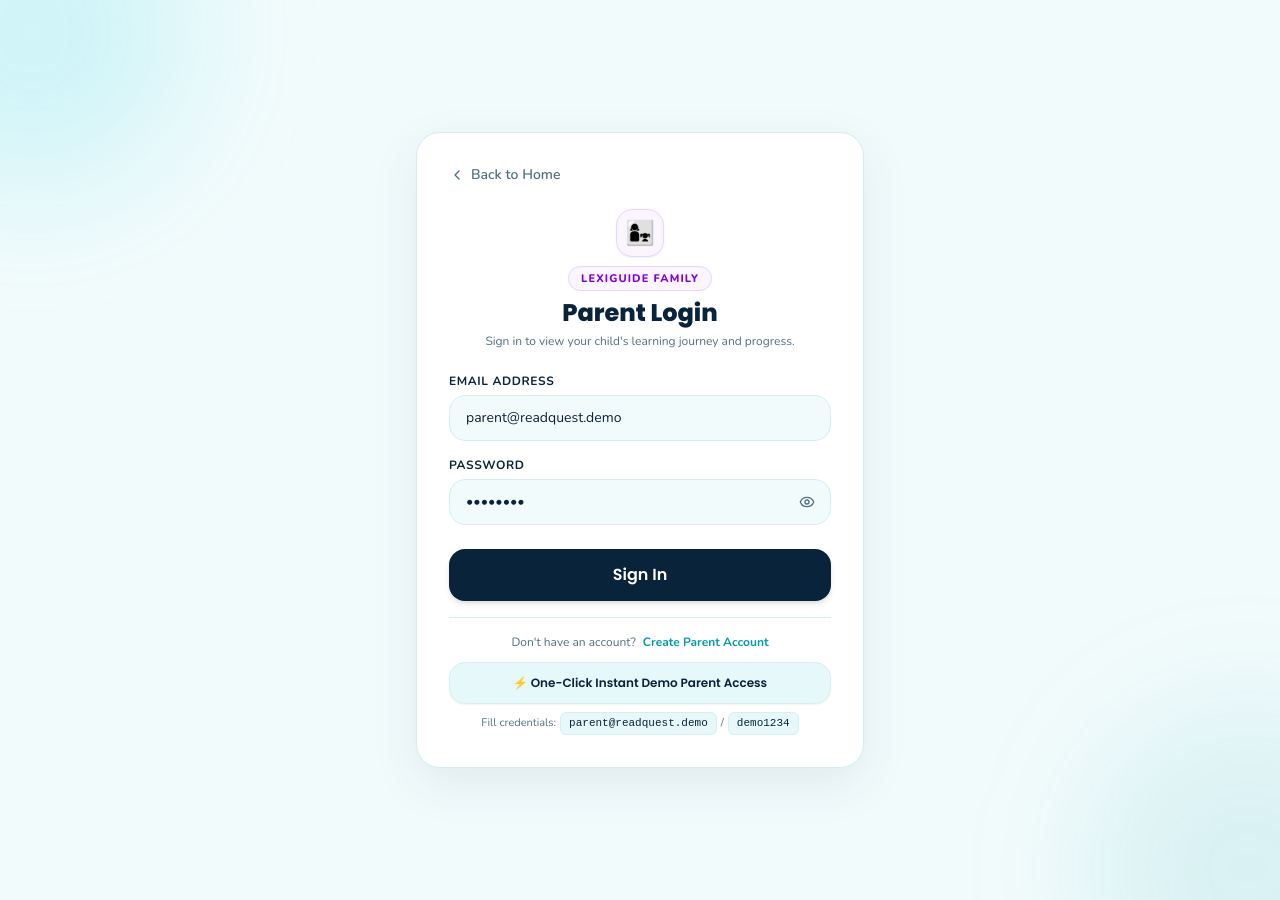
Phase 7 / Step 1: login pages enforce real auth and reject invalid or unreachable credentials › Parent login shows a real error on 401 from a live backend, does not fall back
The image size is (1280, 900).
Click the button "Sign In": click(640, 575) [449,549,831,601]
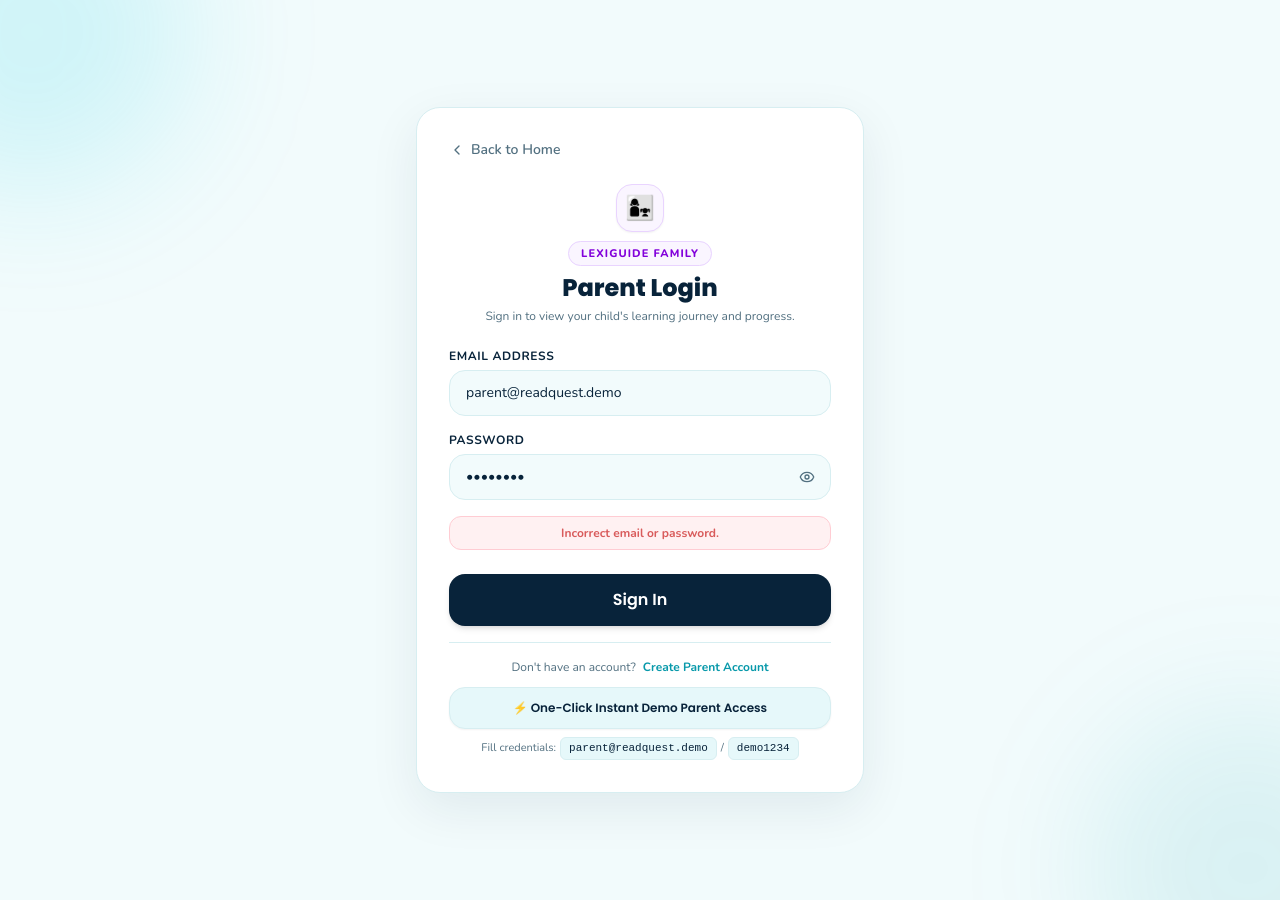
Expected: the text "Incorrect email or password." is shown, [449,516,831,550]
